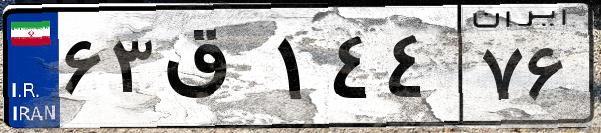1: (270, 28, 330, 110)
3: (110, 28, 158, 98)
4: (385, 28, 445, 110), (330, 28, 385, 110)
6: (57, 26, 110, 100), (525, 38, 570, 115)
7: (475, 38, 525, 113)
ق: (158, 20, 270, 120)
